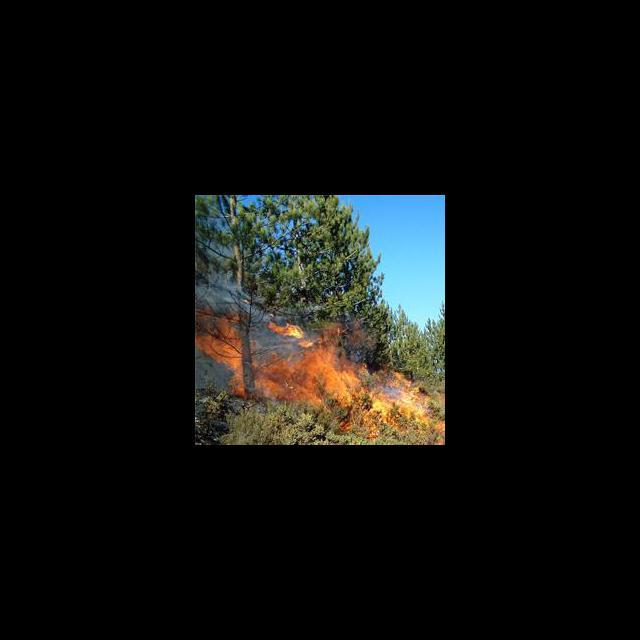Fire: (195, 299, 444, 442)
